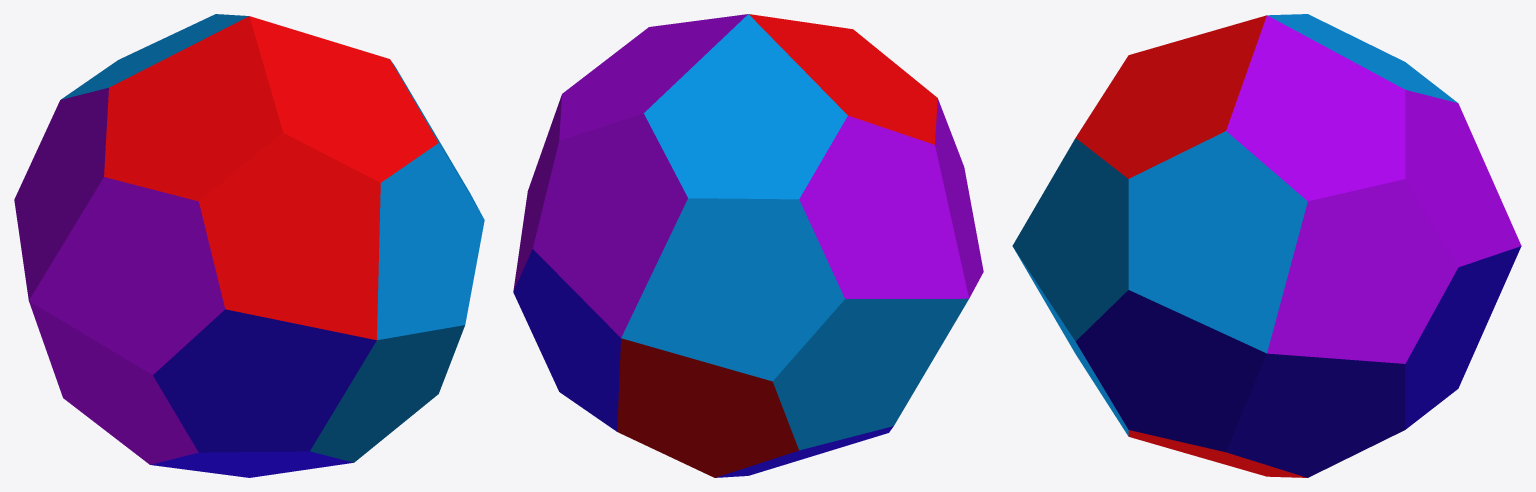
Rendered from Puzzle2.glb.
3 renders of one model, left to right at view 1: azimuth 30°, elevation 25°; view 2: azimuth 150°, elevation 25°; view 3: azimuth 270°, elevation 25°, orthographic.
Visible parts, largest first — view 1: piece_A_6, piece_A_1, piece_A_3, piece_A_8, piece_A_2; view 2: piece_A_2, piece_A_5, piece_A_1, piece_A_7, piece_A_6, piece_A_4, piece_A_8; view 3: piece_A_5, piece_A_4, piece_A_3, piece_A_6, piece_A_2, piece_A_7.
Part boxes in pixels (<box>): piece_A_6: <box>104,16,438,340</box>; piece_A_1: <box>14,87,224,464</box>; piece_A_3: <box>310,61,484,462</box>; piece_A_8: <box>151,309,376,477</box>; piece_A_2: <box>61,14,248,99</box>; piece_A_2: <box>621,14,968,450</box>; piece_A_5: <box>513,14,747,337</box>; piece_A_1: <box>799,98,983,298</box>; piece_A_7: <box>617,338,798,477</box>; piece_A_6: <box>749,14,937,144</box>; piece_A_4: <box>513,249,620,431</box>; piece_A_8: <box>715,426,893,477</box>; piece_A_5: <box>1226,15,1521,363</box>; piece_A_4: <box>1075,246,1521,477</box>; piece_A_3: <box>1012,131,1307,436</box>; piece_A_6: <box>1075,15,1266,178</box>; piece_A_2: <box>1267,14,1457,102</box>; piece_A_7: <box>1128,430,1306,477</box>.
Size of the model in its own units: 4.59 by 4.59 by 4.59.
